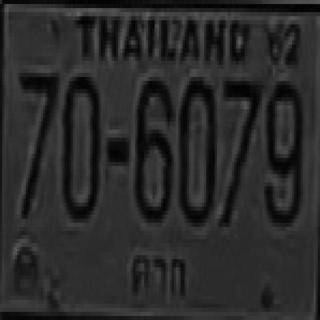N00: (60, 73, 99, 219), (178, 75, 215, 221)
N06: (133, 77, 172, 219)
N07: (219, 77, 260, 223), (18, 69, 57, 215)
N09: (263, 77, 302, 223)
P69: (126, 247, 186, 300)
